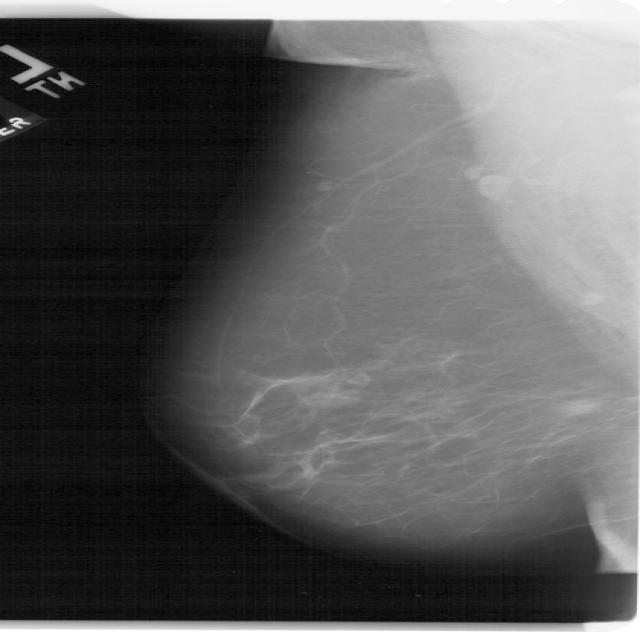tumour: (552, 400, 594, 416)
